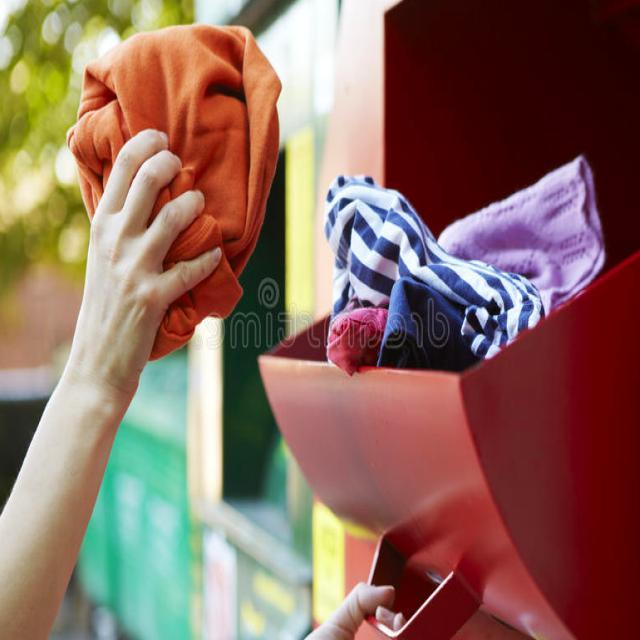clothes: (326, 130, 592, 360), (81, 8, 272, 326)
